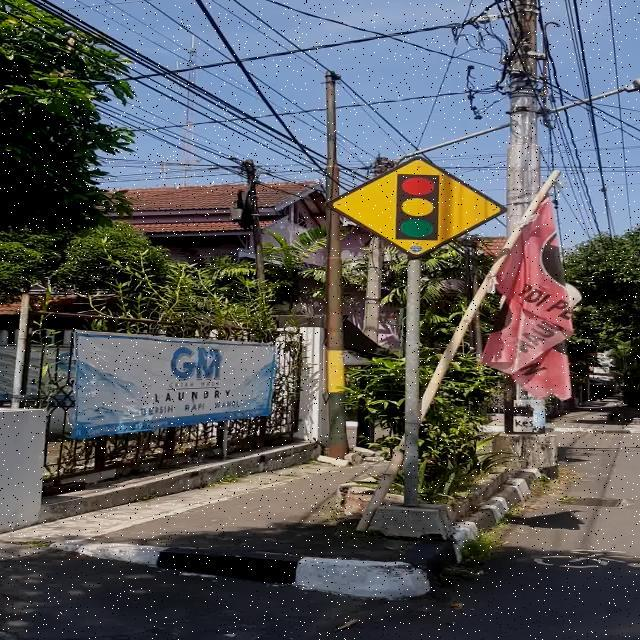Lampu Lalu Lintas: (327, 156, 508, 258)
